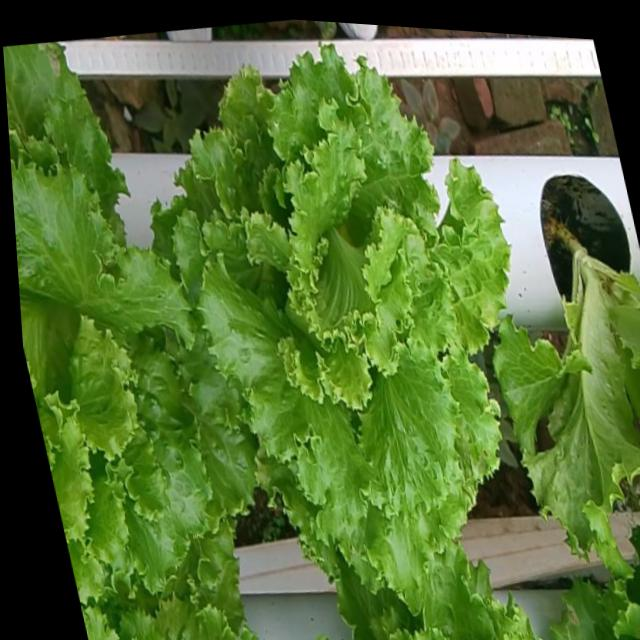Mature: (162, 38, 500, 581), (10, 144, 248, 583)
